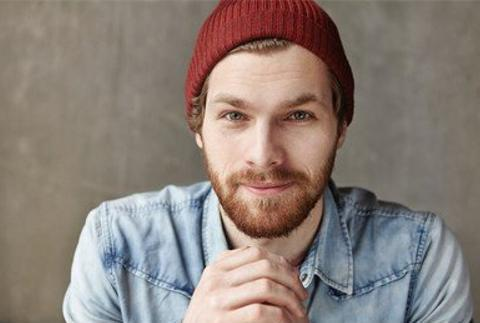Sober: (216, 64, 332, 219)
